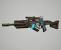gun: (0, 14, 59, 35)
